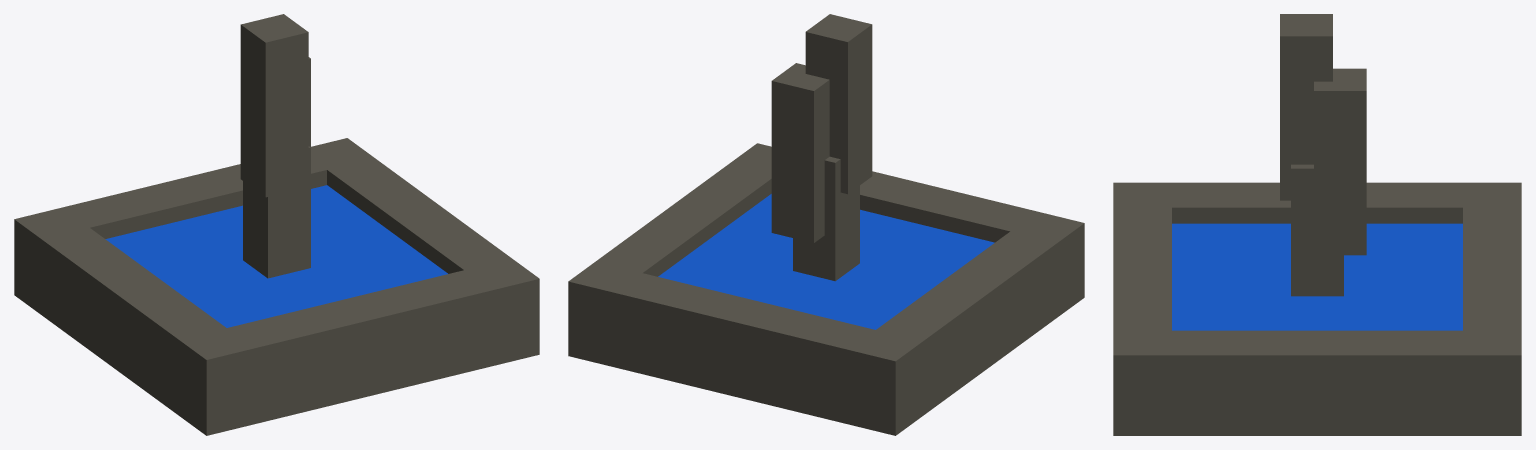
The model's file is CityFountain.fbx.
3 renders of one model, left to right at view 1: azimuth 30°, elevation 25°; view 2: azimuth 150°, elevation 25°; view 3: azimuth 270°, elevation 25°, orthographic. The views are drawn at different scales.
Parts seen in each view (by area): view 1: CityFountain; view 2: CityFountain; view 3: CityFountain.
Part boxes in pixels (bbox=[...]): CityFountain: bbox=[14, 14, 539, 435]; CityFountain: bbox=[568, 14, 1084, 435]; CityFountain: bbox=[1113, 14, 1521, 435].
Size of the model in its own units: 0.3327 by 0.2883 by 0.3327.
